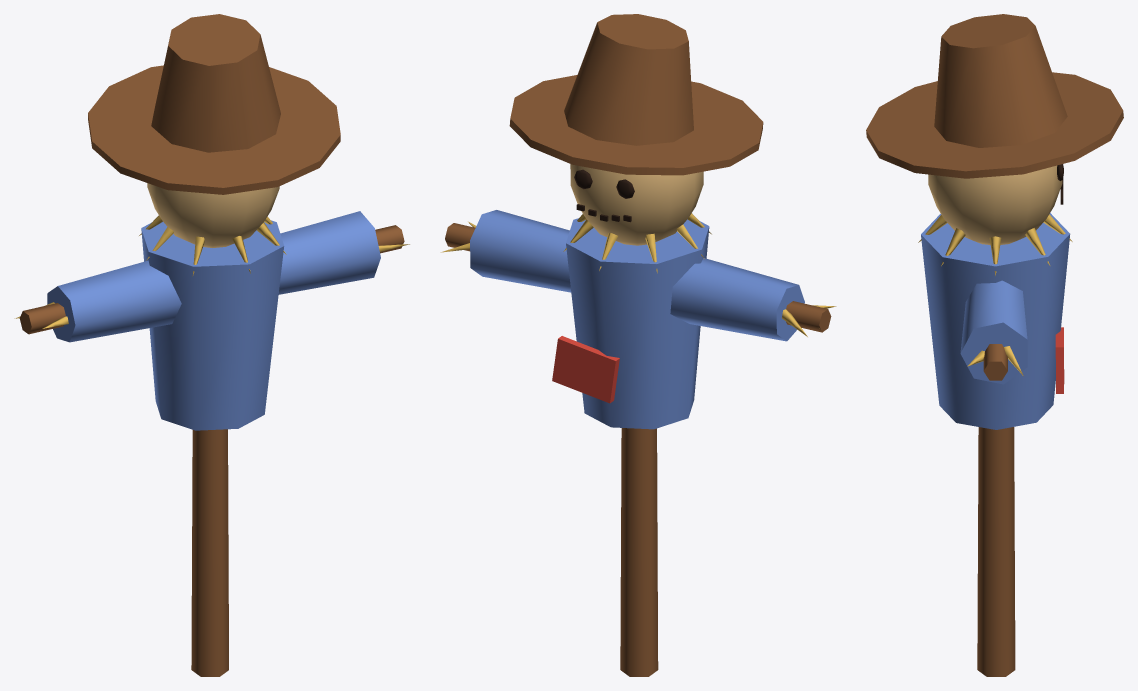
File: Scarecrow.glb
3 renders of one model, left to right at view 1: azimuth 30°, elevation 25°; view 2: azimuth 150°, elevation 25°; view 3: azimuth 270°, elevation 25°, orthographic.
Visible parts, largest first — view 1: Rustle, Body; view 2: Rustle, Body; view 3: Rustle, Body.
Part boxes in pixels (x1,y1,x2,y2): Rustle: (14,14,409,430); Body: (191,429,228,676); Rustle: (440,14,836,429); Body: (620,428,658,676); Rustle: (866,14,1123,429); Body: (977,427,1015,676).
Size of the model in its own units: 3.2 by 5.24 by 1.9.
Materials: 2 (2 with a texture image).
